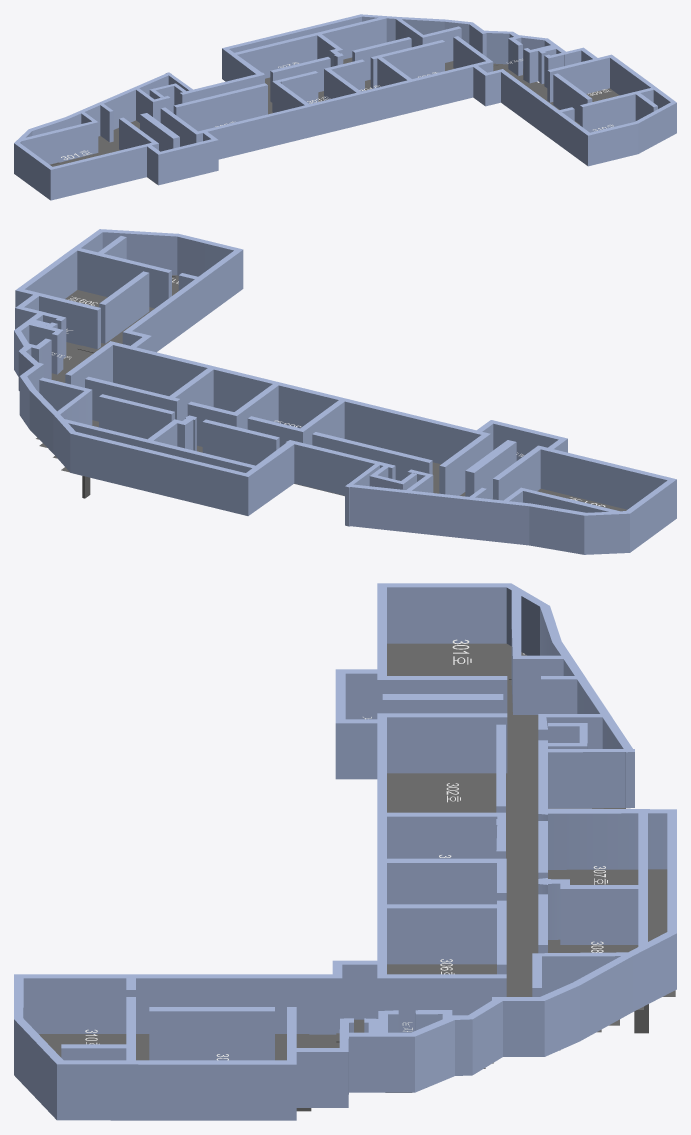
File: 3floor.glb
3 views of the same model, one above another, from view 1: azimuth 30°, elevation 25°; view 2: azimuth 150°, elevation 25°; view 3: azimuth 270°, elevation 25° (orthographic). The views are drawn at different scales.
Parts seen in each view (by area): view 1: Layer:0, Box003; view 2: Layer:0; view 3: Layer:0, Box037, Box036, Box001, Box038, Box003, Box065, Box039, Box040.
Part boxes in pixels (box(x1,y1,x2,y2)): Layer:0: box(14, 14, 676, 200); Box003: box(93, 134, 119, 156); Layer:0: box(14, 229, 676, 554); Layer:0: box(14, 583, 676, 1120); Box037: box(506, 771, 538, 966); Box036: box(387, 773, 496, 812); Box001: box(401, 643, 513, 726); Box038: box(548, 869, 675, 996); Box003: box(404, 711, 538, 774); Box065: box(39, 1034, 309, 1060); Box039: box(387, 964, 496, 974); Box040: box(506, 959, 532, 996).
Size of the model in its own units: 4.55 by 0.4474 by 2.65.
